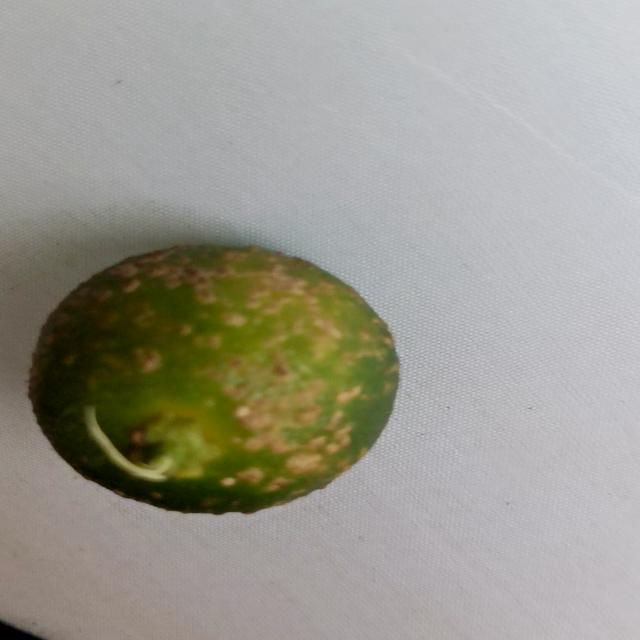scab: (42, 242, 397, 514)
